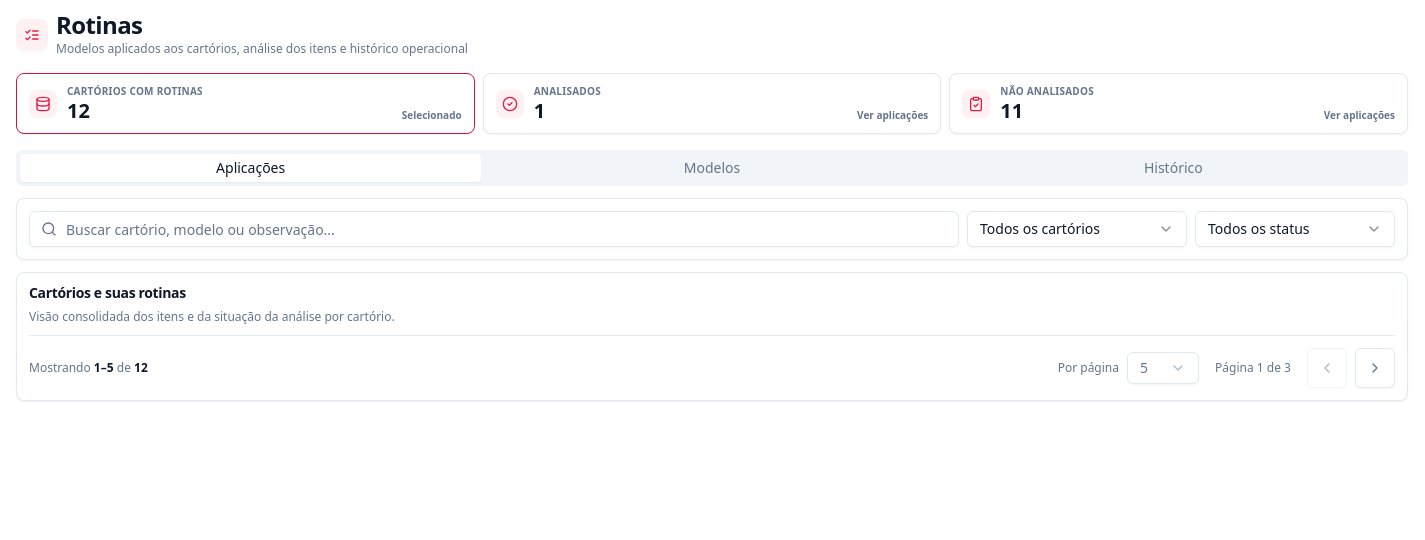
Test: CS/CX rotinas — permissões › abre todas as aplicações pelo card e reinicia a paginação
Click the button named "próxima página de cartórios".
click(1375, 368)  # box [1355,348,1395,388]
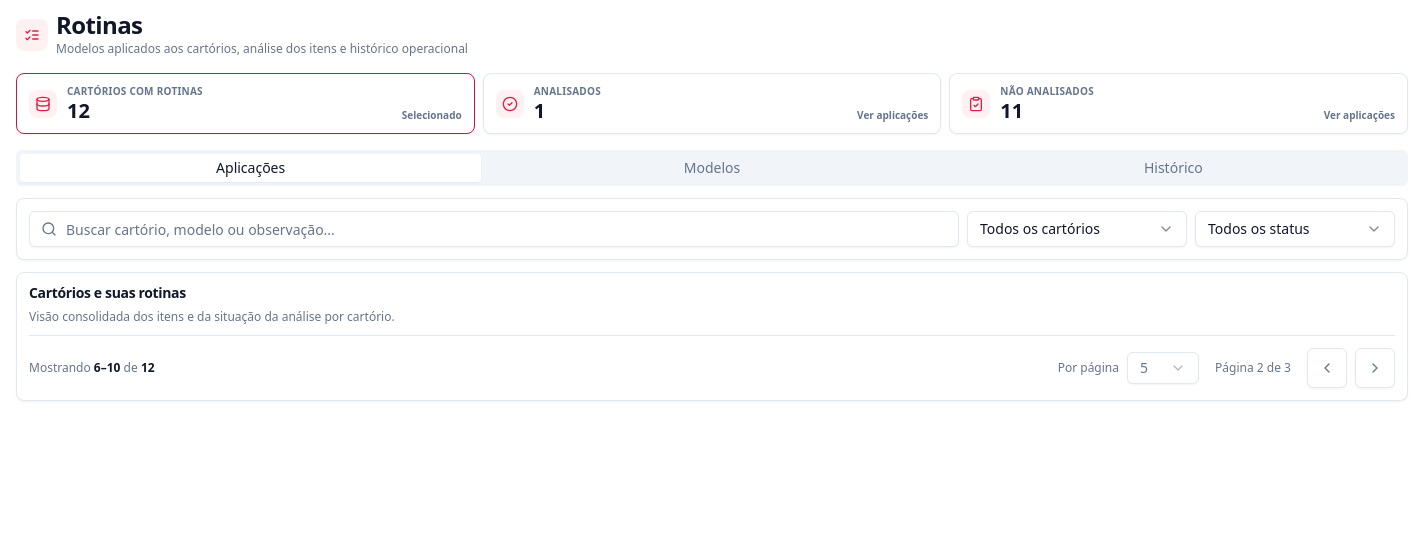
Press the mouse on the tab "Modelos" at (712, 168), box [481,154,943,182]
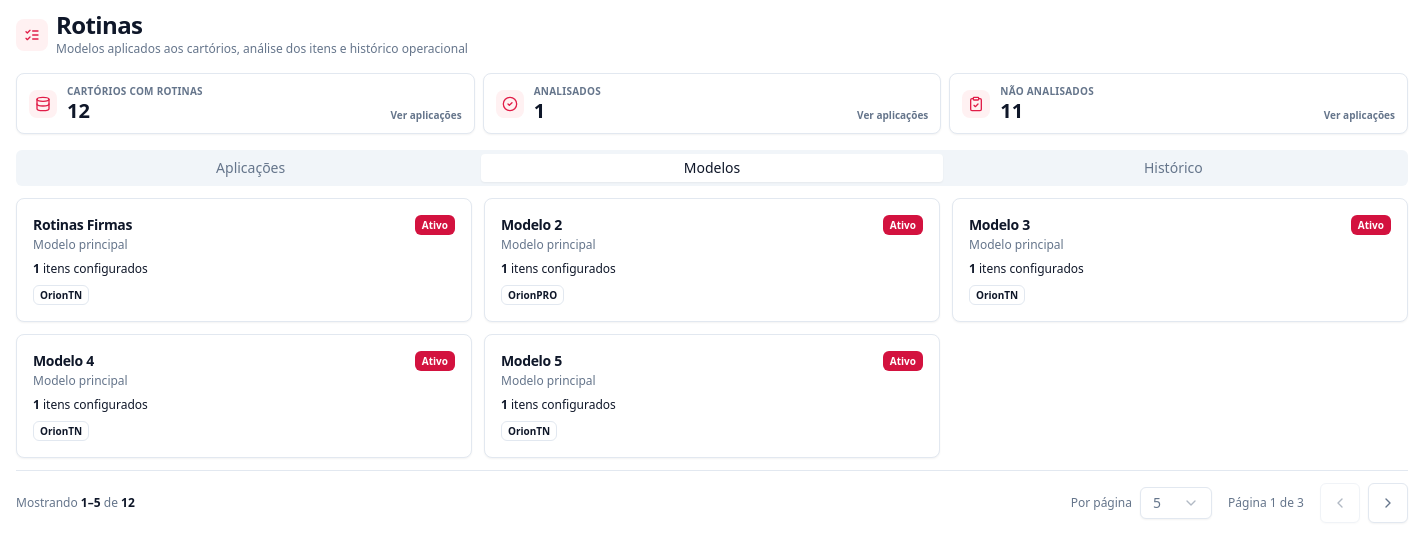
Click the button "Cartórios com rotinas 12 Ver aplicações".
click(135, 91)  # box [17,74,474,133]
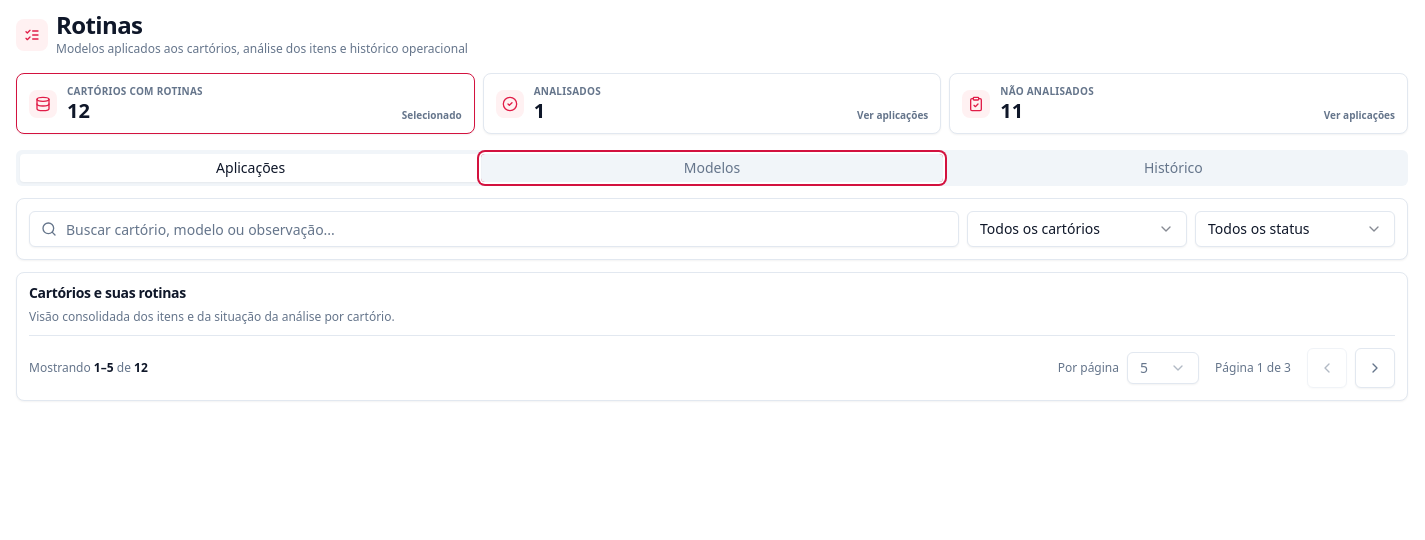
Result: the dropdown named "filtrar por status da aplicação" reads "Todos os status" at [1195,211,1395,247]
Result: the element named "Mostrando 1 a 5 de 12 cartórios" is shown at [29,360,148,376]
